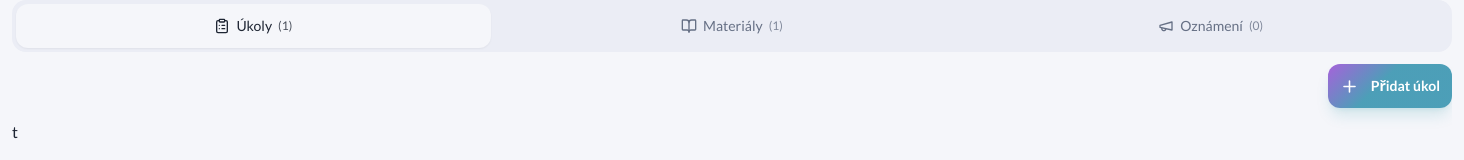
AssignmentKindTabs › přepnutí si pamatuje v localStorage
The image size is (1464, 160).
What coordinates should you click on to do the following:
click the tab with test id "kind-tab-material"
I would click on:
 (732, 26)
Its box is [495,4,969,48].
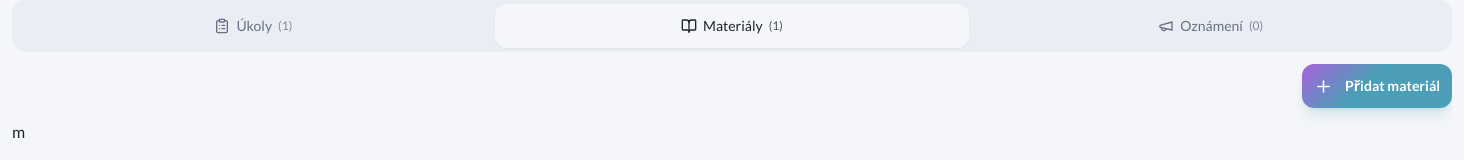
Expected: the list item "m" is shown, [12,122,25,141]
